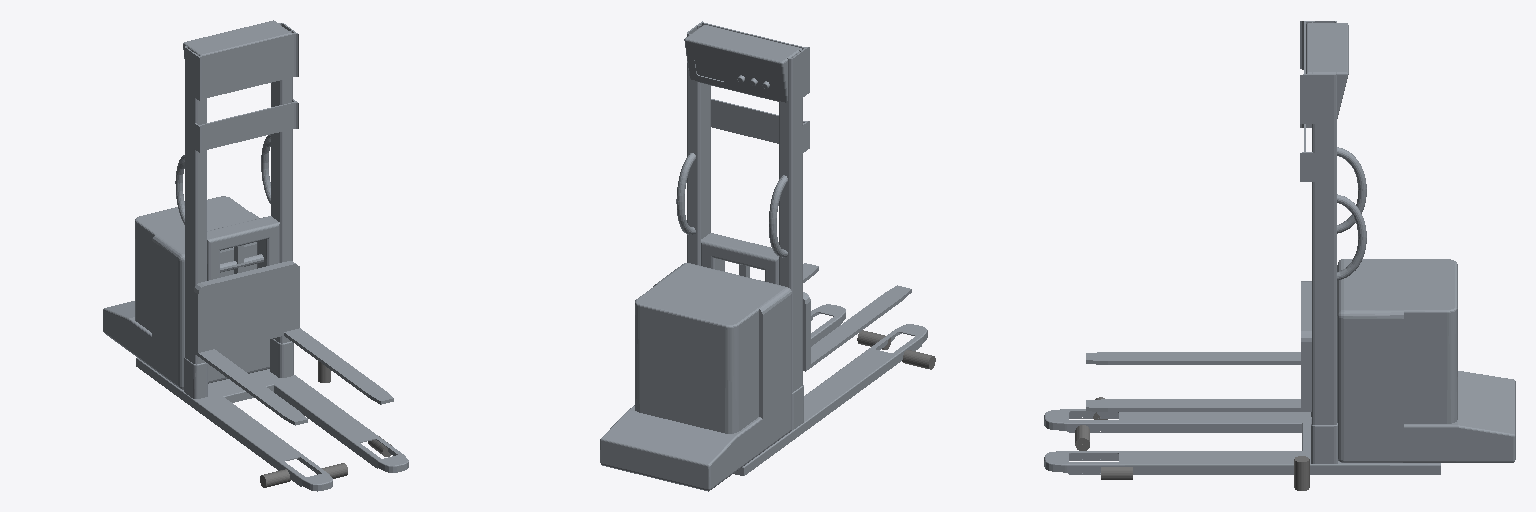
URDF robot description (rep_ryw):
<robot
  name="rep_ryw">
  <link
    name="base_link">
    <inertial>
      <origin
        xyz="-0.00040041 0.07848 1.4275"
        rpy="0 0 0" />
      <mass
        value="353.37" />
      <inertia
        ixx="133.11"
        ixy="1.5652"
        ixz="5.7253"
        iyy="137.3"
        iyz="-5.7873"
        izz="6.6505" />
    </inertial>
    <visual>
      <origin
        xyz="0 0 0"
        rpy="0 0 0" />
      <geometry>
        <mesh
          filename="package://rep_ryw/meshes/base_link.STL" />
      </geometry>
      <material
        name="">
        <color
          rgba="0.61569 0.64314 0.67451 1" />
      </material>
    </visual>
    <collision>
      <origin
        xyz="0 0 0"
        rpy="0 0 0" />
      <geometry>
        <mesh
          filename="package://rep_ryw/meshes/base_link.STL" />
      </geometry>
    </collision>
  </link>
  <link
    name="motor_Link">
    <inertial>
      <origin
        xyz="0.0051653 0.014164 1.8295E-17"
        rpy="0 0 0" />
      <mass
        value="2.1701" />
      <inertia
        ixx="0"
        ixy="0"
        ixz="0"
        iyy="0"
        iyz="0"
        izz="0" />
    </inertial>
    <visual>
      <origin
        xyz="0 0 0"
        rpy="0 0 0" />
      <geometry>
        <mesh
          filename="package://rep_ryw/meshes/motor_Link.STL" />
      </geometry>
      <material
        name="">
        <color
          rgba="0.61569 0.64314 0.67451 1" />
      </material>
    </visual>
    <collision>
      <origin
        xyz="0 0 0"
        rpy="0 0 0" />
      <geometry>
        <mesh
          filename="package://rep_ryw/meshes/motor_Link.STL" />
      </geometry>
    </collision>
  </link>
  <joint
    name="jt-m2b"
    type="revolute">
    <origin
      xyz="0 0.43 0.12633"
      rpy="-1.5708 -6.123E-17 -1.5708" />
    <parent
      link="base_link" />
    <child
      link="motor_Link" />
    <axis
      xyz="0 -1 0" />
    <limit
      effort="0"
      velocity="0" />
  </joint>
  <link
    name="wheel_Link">
    <inertial>
      <origin
        xyz="0 -0.025 1.4304E-18"
        rpy="0 0 0" />
      <mass
        value="0.80751" />
      <inertia
        ixx="0"
        ixy="0"
        ixz="0"
        iyy="0"
        iyz="0"
        izz="0" />
    </inertial>
    <visual>
      <origin
        xyz="0 0 0"
        rpy="0 0 0" />
      <geometry>
        <mesh
          filename="package://rep_ryw/meshes/wheel_Link.STL" />
      </geometry>
      <material
        name="">
        <color
          rgba="0.49804 0.49804 0.49804 1" />
      </material>
    </visual>
    <collision>
      <origin
        xyz="0 0 0"
        rpy="0 0 0" />
      <geometry>
        <mesh
          filename="package://rep_ryw/meshes/wheel_Link.STL" />
      </geometry>
    </collision>
  </link>
  <joint
    name="jt-w2m"
    type="continuous">
    <origin
      xyz="-0.025 0.08 0"
      rpy="2.44925315296973E-16 1.22460635382238E-16 1.5707963267949" />
    <parent
      link="motor_Link" />
    <child
      link="wheel_Link" />
    <axis
      xyz="0 0 1" />
  </joint>
  <link
    name="rwheel_Link">
    <inertial>
      <origin
        xyz="0 1.1102E-16 -0.075"
        rpy="0 0 0" />
      <mass
        value="0.54675" />
      <inertia
        ixx="0"
        ixy="0"
        ixz="0"
        iyy="0"
        iyz="0"
        izz="0" />
    </inertial>
    <visual>
      <origin
        xyz="0 0 0"
        rpy="0 0 0" />
      <geometry>
        <mesh
          filename="package://rep_ryw/meshes/rwheel_Link.STL" />
      </geometry>
      <material
        name="">
        <color
          rgba="0.49804 0.49804 0.49804 1" />
      </material>
    </visual>
    <collision>
      <origin
        xyz="0 0 0"
        rpy="0 0 0" />
      <geometry>
        <mesh
          filename="package://rep_ryw/meshes/rwheel_Link.STL" />
      </geometry>
    </collision>
  </link>
  <joint
    name="jt-rw2b"
    type="continuous">
    <origin
      xyz="-0.305 -0.93759 0.0063292"
      rpy="3.1416 -1.5708 0" />
    <parent
      link="base_link" />
    <child
      link="rwheel_Link" />
    <axis
      xyz="0 0 -1" />
  </joint>
  <link
    name="lwheel_Link">
    <inertial>
      <origin
        xyz="0 -1.1102E-16 -0.075"
        rpy="0 0 0" />
      <mass
        value="0.54675" />
      <inertia
        ixx="0"
        ixy="0"
        ixz="0"
        iyy="0"
        iyz="0"
        izz="0" />
    </inertial>
    <visual>
      <origin
        xyz="0 0 0"
        rpy="0 0 0" />
      <geometry>
        <mesh
          filename="package://rep_ryw/meshes/lwheel_Link.STL" />
      </geometry>
      <material
        name="">
        <color
          rgba="0.49804 0.49804 0.49804 1" />
      </material>
    </visual>
    <collision>
      <origin
        xyz="0 0 0"
        rpy="0 0 0" />
      <geometry>
        <mesh
          filename="package://rep_ryw/meshes/lwheel_Link.STL" />
      </geometry>
    </collision>
  </link>
  <joint
    name="jt-lw2b"
    type="continuous">
    <origin
      xyz="0.305 -0.93759 0.0063292"
      rpy="0 -1.5708 0" />
    <parent
      link="base_link" />
    <child
      link="lwheel_Link" />
    <axis
      xyz="0 0 1" />
  </joint>
  <link
    name="fork_Link">
    <inertial>
      <origin
        xyz="0.1638 -5.3071E-07 -0.37996"
        rpy="0 0 0" />
      <mass
        value="164.19" />
      <inertia
        ixx="2.17"
        ixy="-1.4273E-05"
        ixz="1.5204"
        iyy="3.4448"
        iyz="1.2533E-05"
        izz="1.2748" />
    </inertial>
    <visual>
      <origin
        xyz="0 0 0"
        rpy="0 0 0" />
      <geometry>
        <mesh
          filename="package://rep_ryw/meshes/fork_Link.STL" />
      </geometry>
      <material
        name="">
        <color
          rgba="0.61569 0.64314 0.67451 1" />
      </material>
    </visual>
    <collision>
      <origin
        xyz="0 0 0"
        rpy="0 0 0" />
      <geometry>
        <mesh
          filename="package://rep_ryw/meshes/fork_Link.STL" />
      </geometry>
    </collision>
  </link>
  <joint
    name="jt-f2b"
    type="prismatic">
    <origin
      xyz="0 0.105 0.91116"
      rpy="-5.4418E-17 5.4418E-17 -1.5708" />
    <parent
      link="base_link" />
    <child
      link="fork_Link" />
    <axis
      xyz="0 0 1" />
    <limit
      effort="0"
      velocity="0" />
  </joint>
  <link
    name="main_Link">
    <inertial>
      <origin
        xyz="-5.0336E-07 0.36638 0.35862"
        rpy="0 0 0" />
      <mass
        value="1088.2" />
      <inertia
        ixx="0"
        ixy="0"
        ixz="0"
        iyy="0"
        iyz="0"
        izz="0" />
    </inertial>
    <visual>
      <origin
        xyz="0 0 0"
        rpy="0 0 0" />
      <geometry>
        <mesh
          filename="package://rep_ryw/meshes/main_Link.STL" />
      </geometry>
      <material
        name="">
        <color
          rgba="0.61569 0.64314 0.67451 1" />
      </material>
    </visual>
    <collision>
      <origin
        xyz="0 0 0"
        rpy="0 0 0" />
      <geometry>
        <mesh
          filename="package://rep_ryw/meshes/main_Link.STL" />
      </geometry>
    </collision>
  </link>
  <joint
    name="jt-m2b"
    type="fixed">
    <origin
      xyz="-0.005 0.165 0.05"
      rpy="1.5708 -8.6736E-17 3.1416" />
    <parent
      link="base_link" />
    <child
      link="main_Link" />
    <axis
      xyz="0 0 0" />
  </joint>
  <link
    name="ffrwl_Link">
    <inertial>
      <origin
        xyz="-6.9389E-18 -0.075 0"
        rpy="0 0 0" />
      <mass
        value="0.54675" />
      <inertia
        ixx="0"
        ixy="0"
        ixz="0"
        iyy="0"
        iyz="0"
        izz="0" />
    </inertial>
    <visual>
      <origin
        xyz="0 0 0"
        rpy="0 0 0" />
      <geometry>
        <mesh
          filename="package://rep_ryw/meshes/ffrwl_Link.STL" />
      </geometry>
      <material
        name="">
        <color
          rgba="0.49804 0.49804 0.49804 1" />
      </material>
    </visual>
    <collision>
      <origin
        xyz="0 0 0"
        rpy="0 0 0" />
      <geometry>
        <mesh
          filename="package://rep_ryw/meshes/ffrwl_Link.STL" />
      </geometry>
    </collision>
  </link>
  <joint
    name="jt-ffrw2b"
    type="continuous">
    <origin
      xyz="-0.155 -1.0214 0.0063292"
      rpy="1.5708 1.5708 0" />
    <parent
      link="base_link" />
    <child
      link="ffrwl_Link" />
    <axis
      xyz="0 1 0" />
  </joint>
  <link
    name="fflwl_Link">
    <inertial>
      <origin
        xyz="6.0715E-18 0.075 0"
        rpy="0 0 0" />
      <mass
        value="0.54675" />
      <inertia
        ixx="0"
        ixy="0"
        ixz="0"
        iyy="0"
        iyz="0"
        izz="0" />
    </inertial>
    <visual>
      <origin
        xyz="0 0 0"
        rpy="0 0 0" />
      <geometry>
        <mesh
          filename="package://rep_ryw/meshes/fflwl_Link.STL" />
      </geometry>
      <material
        name="">
        <color
          rgba="0.49804 0.49804 0.49804 1" />
      </material>
    </visual>
    <collision>
      <origin
        xyz="0 0 0"
        rpy="0 0 0" />
      <geometry>
        <mesh
          filename="package://rep_ryw/meshes/fflwl_Link.STL" />
      </geometry>
    </collision>
  </link>
  <joint
    name="jt-fflw2b"
    type="continuous">
    <origin
      xyz="0.155 -1.0214 0.0063292"
      rpy="1.5708 1.5708 0" />
    <parent
      link="base_link" />
    <child
      link="fflwl_Link" />
    <axis
      xyz="0 1 0" />
  </joint>
</robot>

--- Render facts (derived) ---
The picture shows the robot from 3 angles, left to right: view 1: azimuth 30°, elevation 25°; view 2: azimuth 150°, elevation 25°; view 3: azimuth 270°, elevation 25°; orthographic projection.
Model rep_ryw with 9 links and 8 joints (1 revolute, 5 continuous, 1 prismatic, 1 fixed), rooted at base_link, posed every joint at zero.
Links seen in each view (by area): view 1: base_link, fork_Link, main_Link; view 2: main_Link, base_link, fork_Link; view 3: main_Link, base_link, fork_Link, fflwl_Link.
Boxes of the visible links, bbox=[...] form: base_link: bbox=[136, 20, 408, 491]; fork_Link: bbox=[194, 216, 393, 425]; main_Link: bbox=[103, 196, 269, 389]; main_Link: bbox=[600, 263, 791, 491]; base_link: bbox=[676, 21, 927, 475]; fork_Link: bbox=[701, 233, 911, 371]; main_Link: bbox=[1337, 259, 1515, 462]; base_link: bbox=[1044, 21, 1440, 474]; fork_Link: bbox=[1086, 281, 1311, 411]; fflwl_Link: bbox=[1294, 456, 1309, 490].
Bounding box of the posed robot: 0.95 × 2.19 × 2.08 m (x, y, z).
Meshes: 9 distinct files referenced, 9 mesh visuals loaded (9 binary STL).
